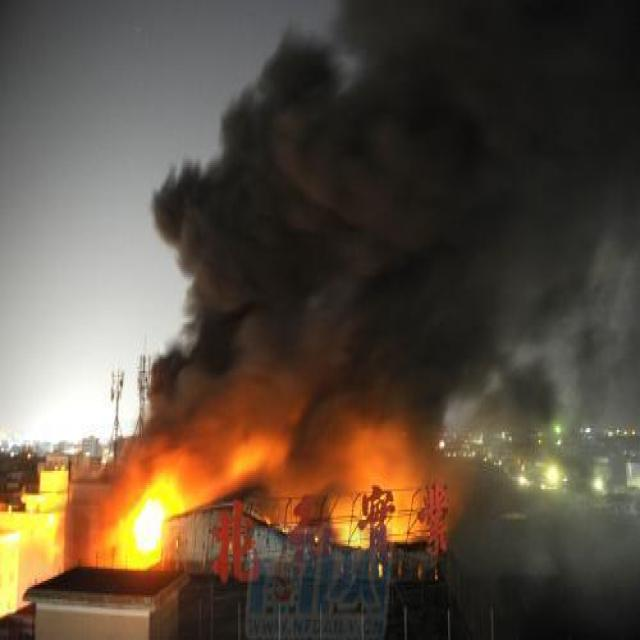fire: (335, 470, 427, 548), (116, 467, 182, 562)
smoke: (116, 9, 636, 466)
